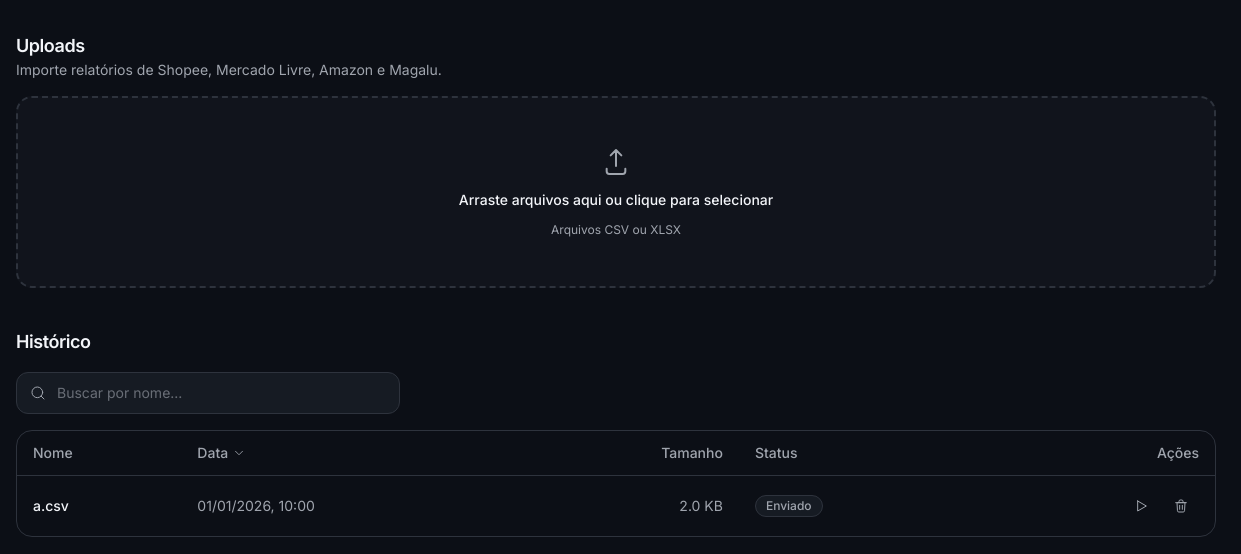
UploadsPage › shows an error toast with the failure reason when processing fails
Expected: the link "a.csv" is shown, [33,497,69,514]
Click the button named "Processar a.csv" at (1141, 506), box [1123,488,1159,524]
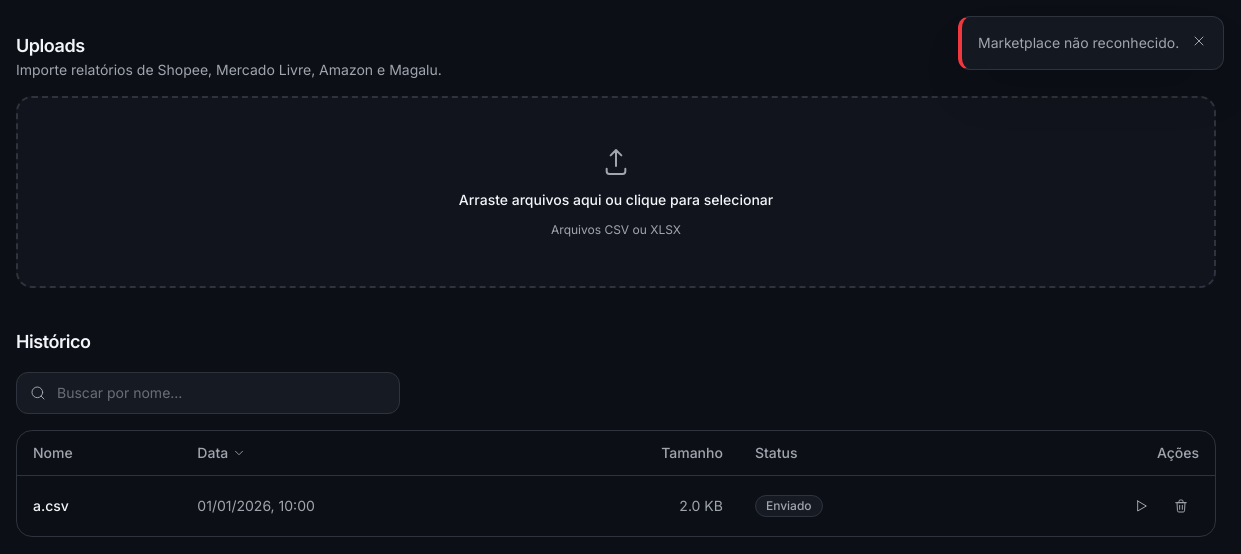
Expected: the text "Marketplace não reconhecido." is shown, [978,33,1179,53]
